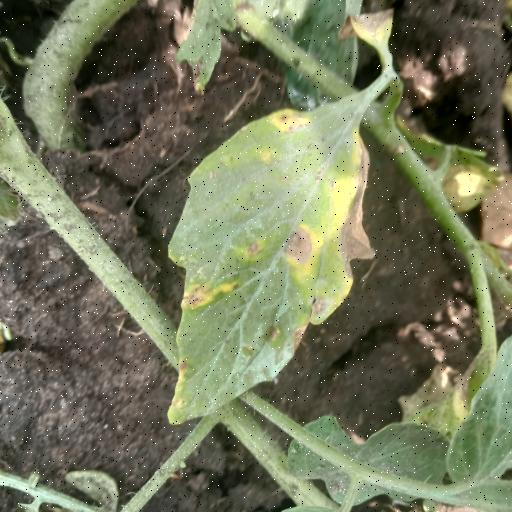Tomato_Brown_Spots: (162, 96, 371, 420)
